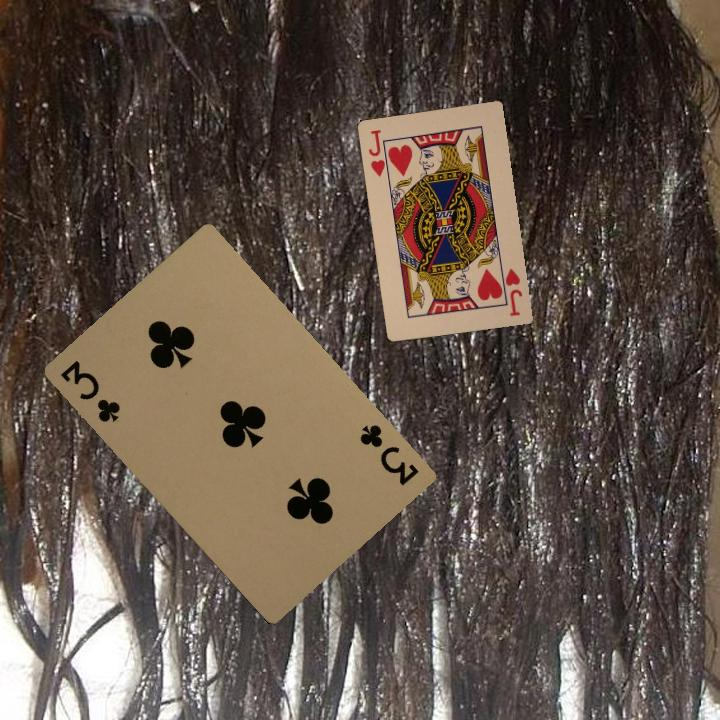3c: (57, 355, 123, 425), (355, 420, 421, 489)
Jh: (496, 264, 525, 319), (364, 126, 392, 179)
